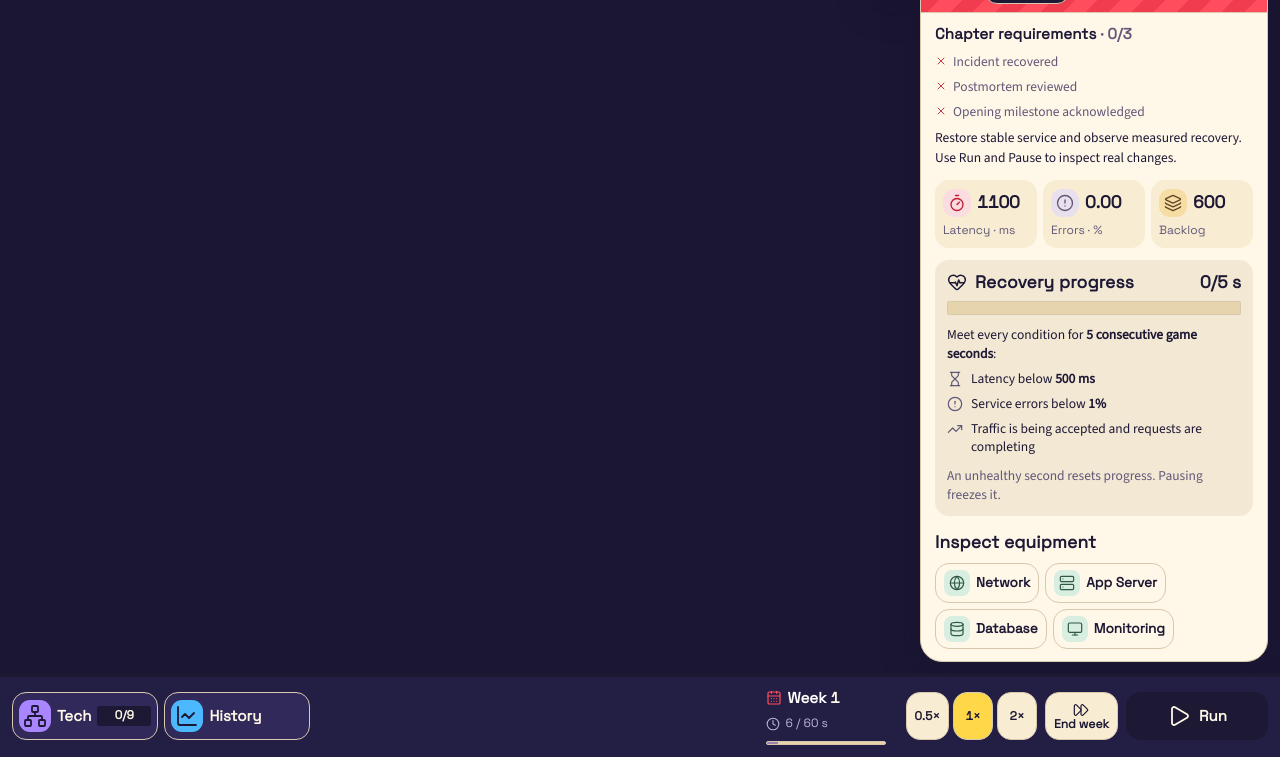
Test case: keeps Cancel read-only and contains keyboard focus in the existing preview
(page scrolled)
Step 1. Click the button "Database" → (991, 629), box [935,609,1047,649]
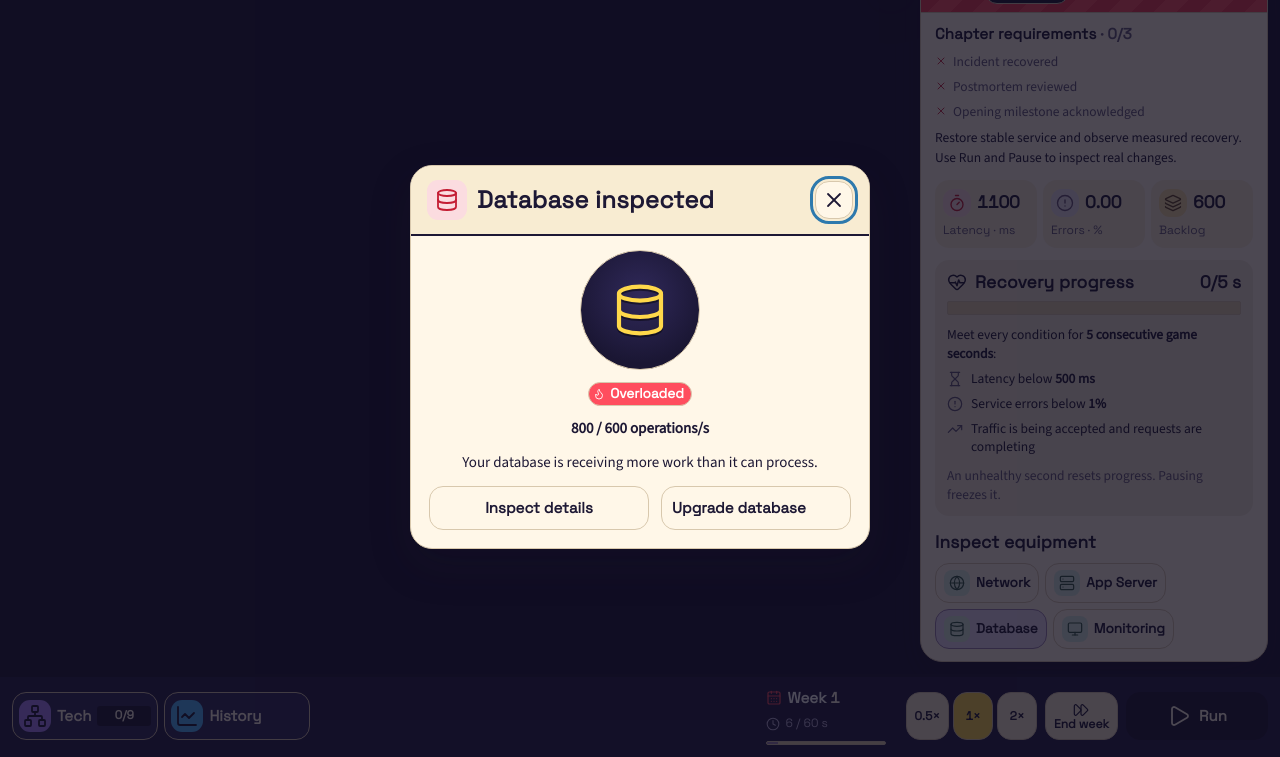
Step 2. Click the button "Upgrade database" → (756, 508), box [661,486,851,530]
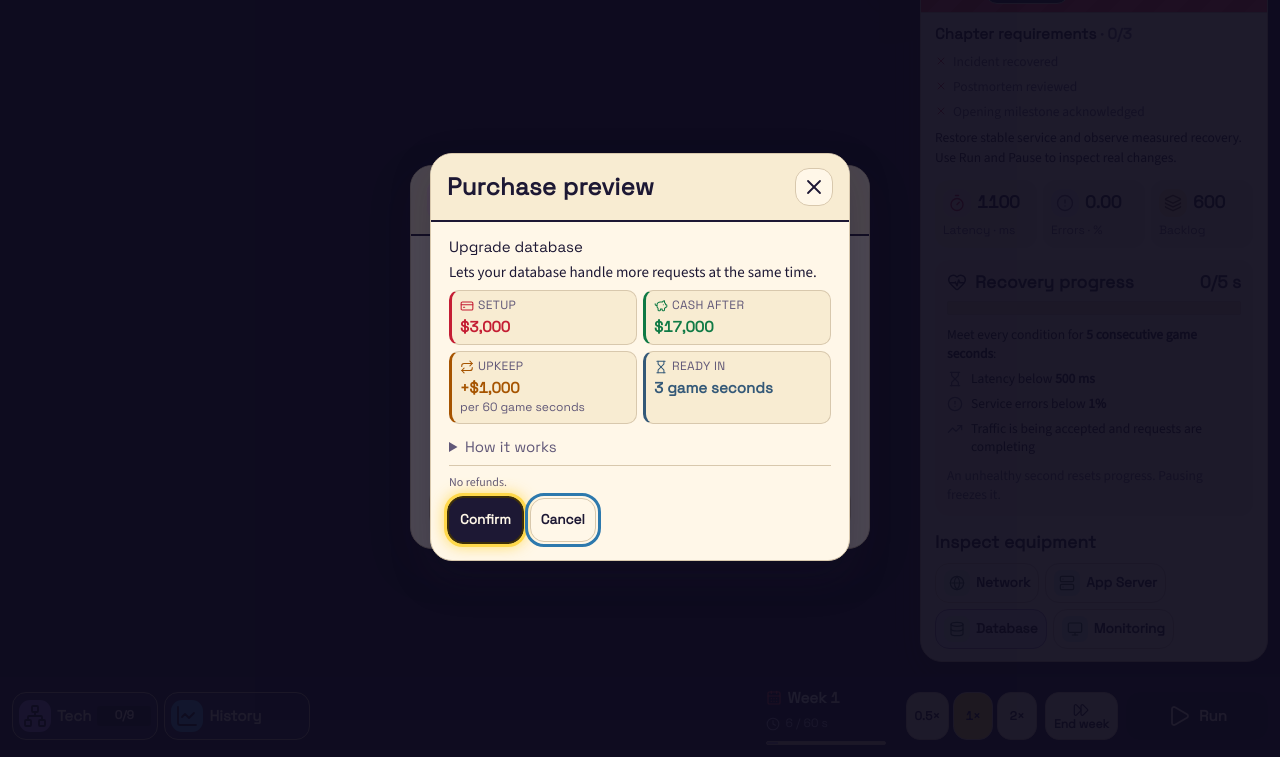
Step 3. Press Tab in the button "Cancel", box [530,498,596,542]
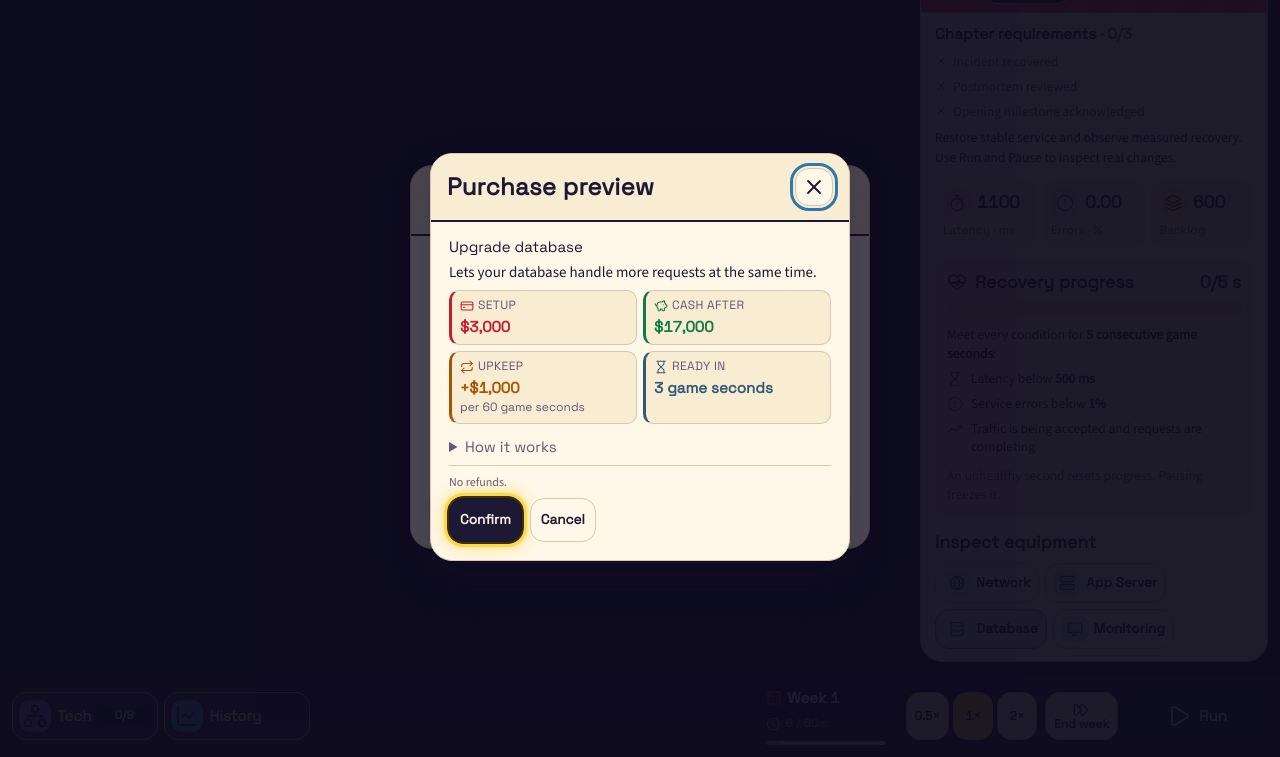
Step 4. Press Escape in the button "Cancel", box [530,498,596,542]
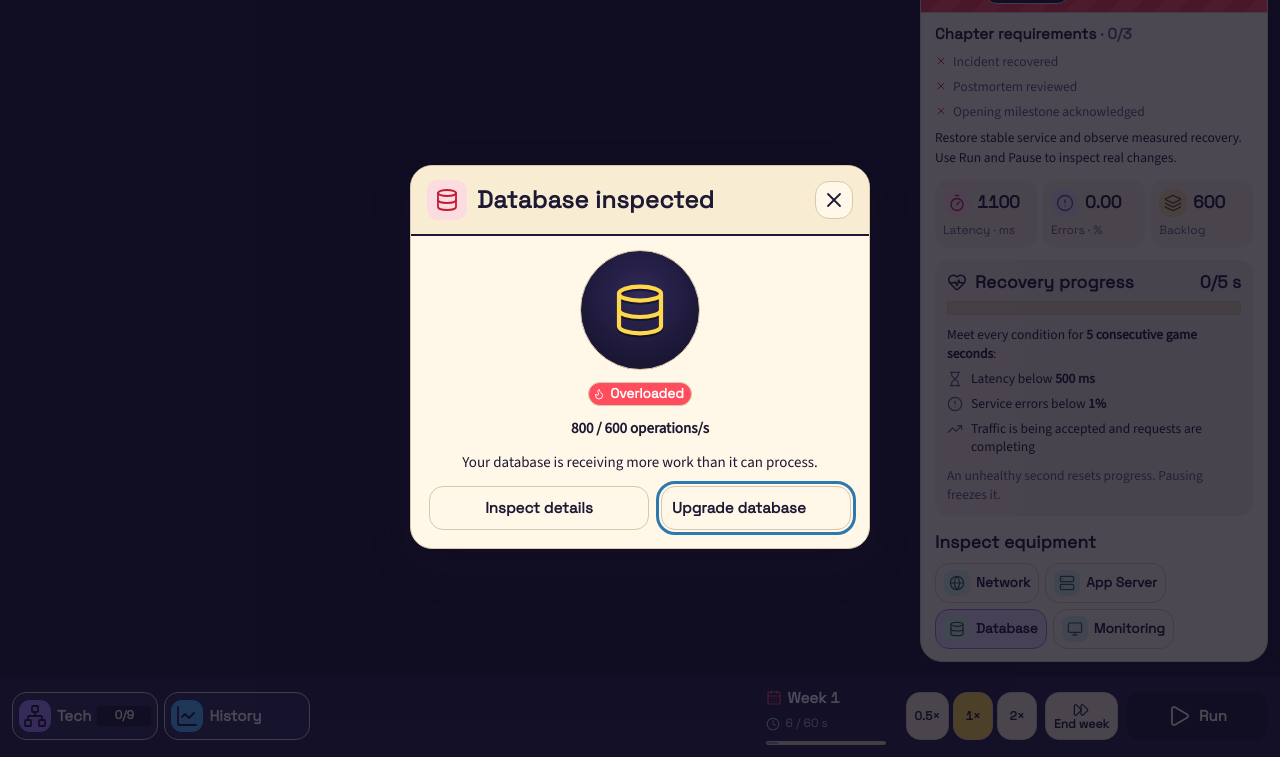
Result: the button "Upgrade database" is shown at [661,486,851,530]
Result: the heading "Purchase preview" is gone
